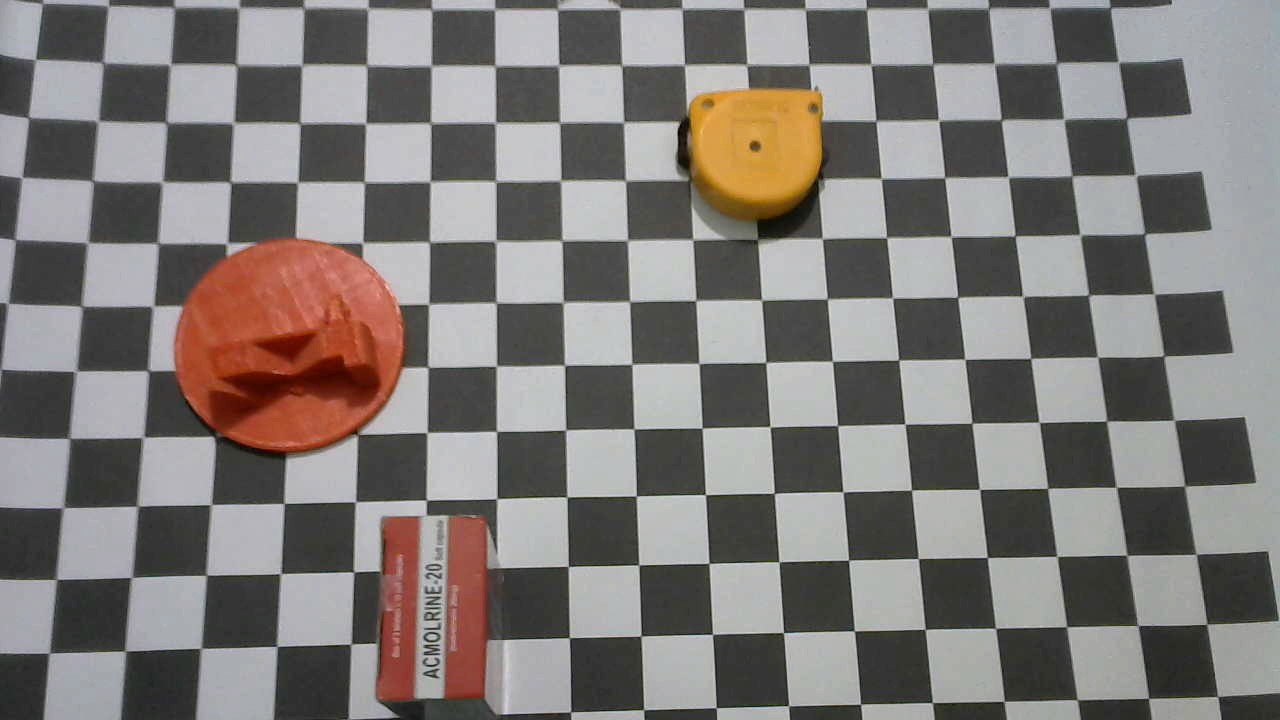blue: (678, 88, 826, 218)
green: (170, 237, 405, 460)
red: (376, 510, 507, 716)
